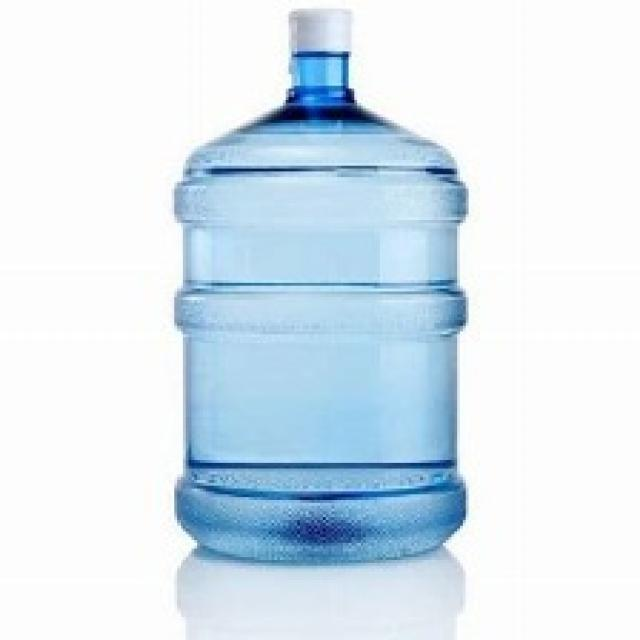plastic: (153, 8, 487, 576)
